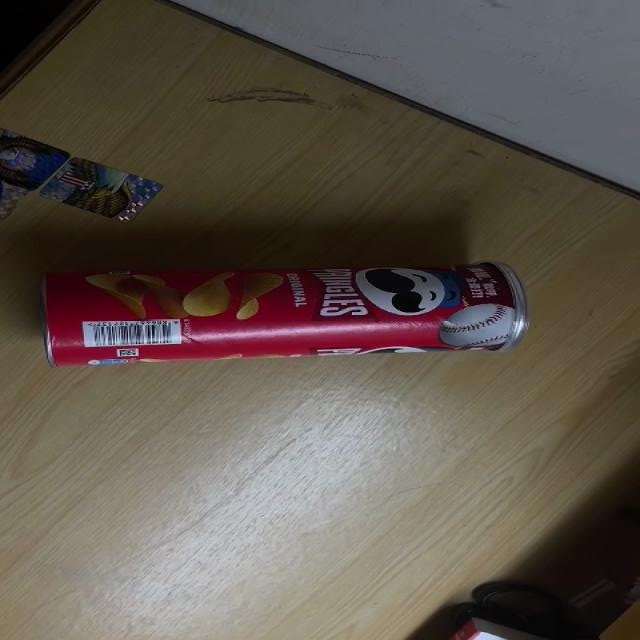Pringles: (41, 262, 534, 369)
